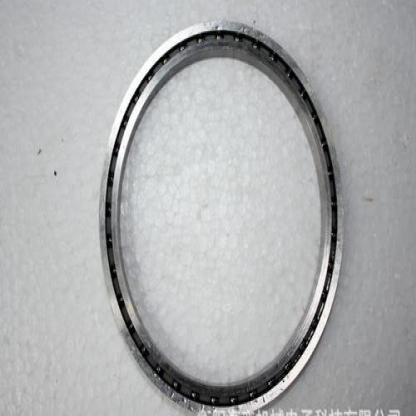FOD: (94, 12, 348, 415)
